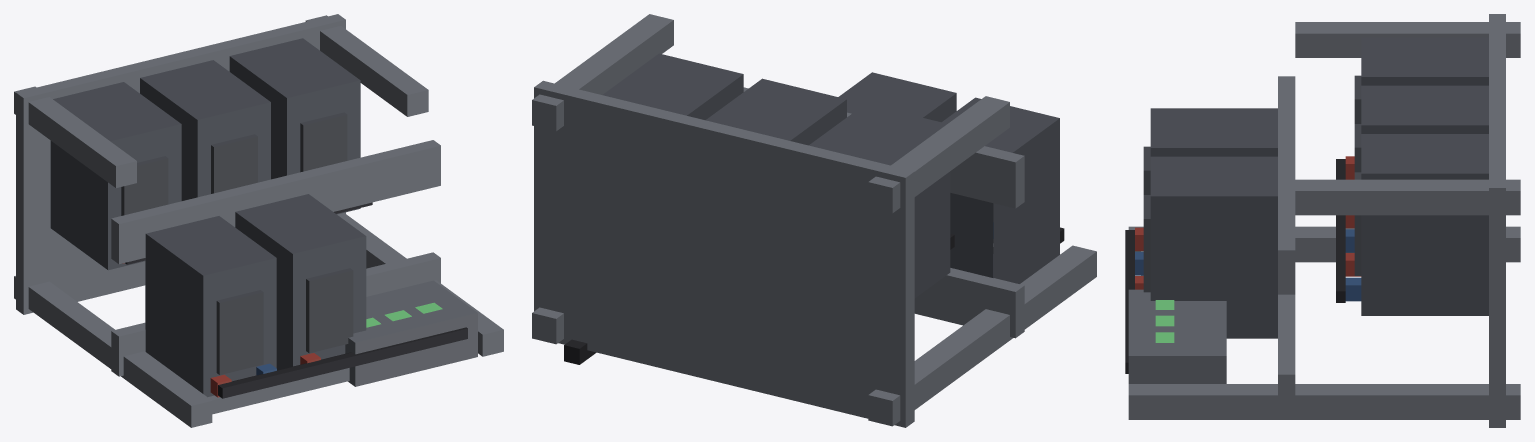
File: bank_ground_standard_c5_S.obj
3 renders of one model, left to right at view 1: azimuth 30°, elevation 25°; view 2: azimuth 150°, elevation 25°; view 3: azimuth 270°, elevation 25°, orthographic. The views are drawn at different scales.
Visible parts, largest first — view 1: bank_ground_standard_c5_S; view 2: bank_ground_standard_c5_S; view 3: bank_ground_standard_c5_S.
Boxes of the visible parts, x1=… form: bank_ground_standard_c5_S: x1=14, y1=14, x2=503, y2=427; bank_ground_standard_c5_S: x1=532, y1=14, x2=1096, y2=427; bank_ground_standard_c5_S: x1=1125, y1=14, x2=1520, y2=427.
Size of the model in its own units: 0.84 by 0.56 by 0.807.
1 material, 1 textured.
